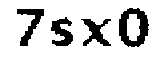0: (117, 3, 151, 49)
7: (14, 5, 46, 53)
s: (49, 15, 77, 51)
x: (80, 16, 117, 51)
